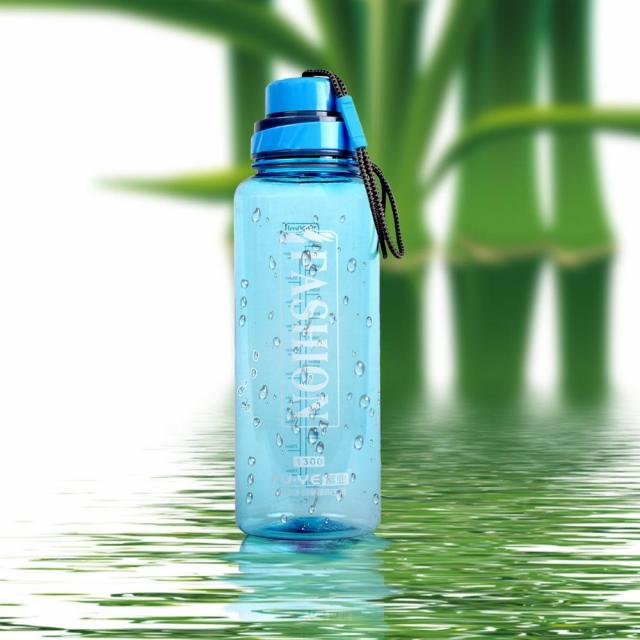plastic_bottle: (232, 68, 399, 543)
